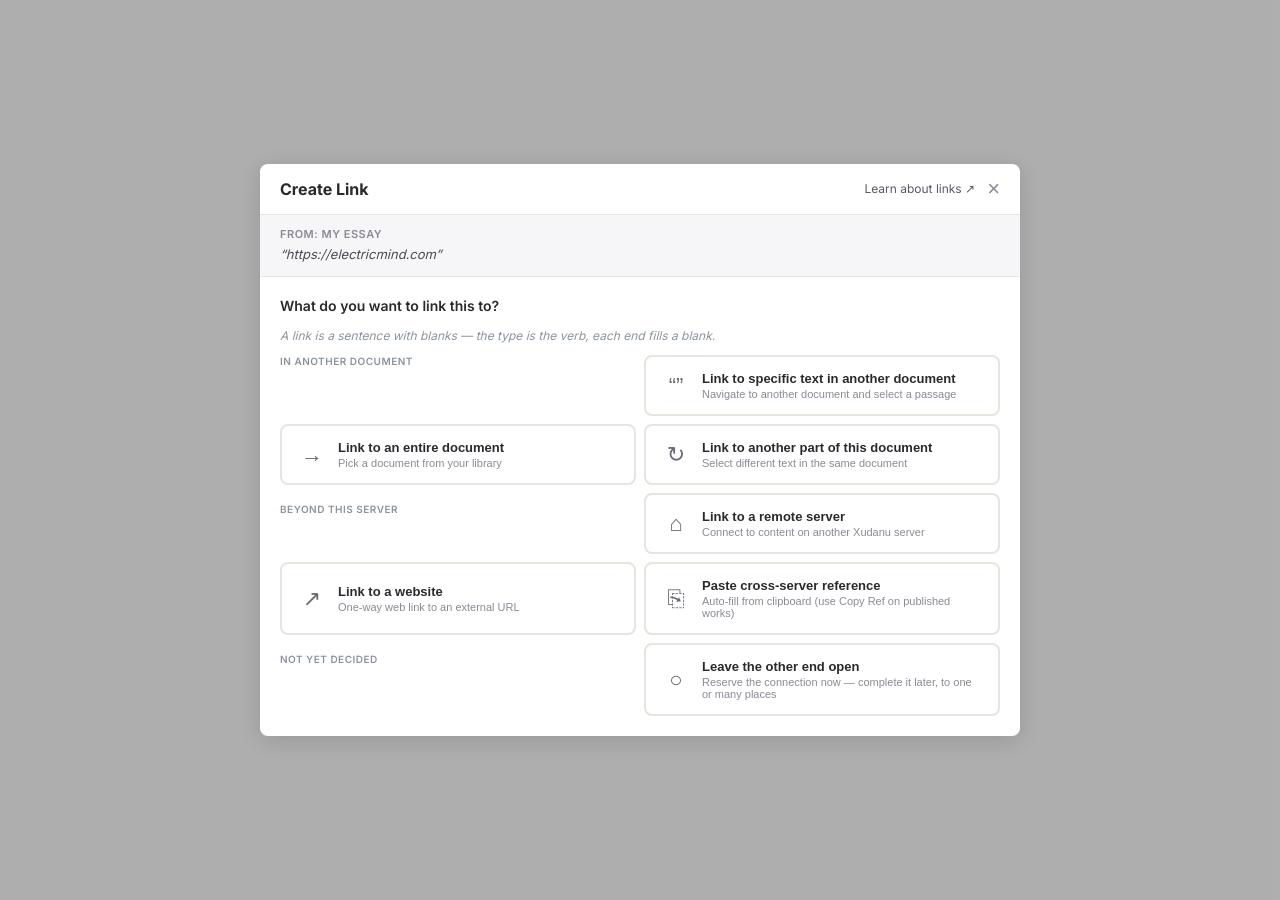
Test: LinkCreator › pre-fills the web URL when the selected text is a URL
Click the text "Link to a website" at x=390, y=592, box [338,584,443,599]
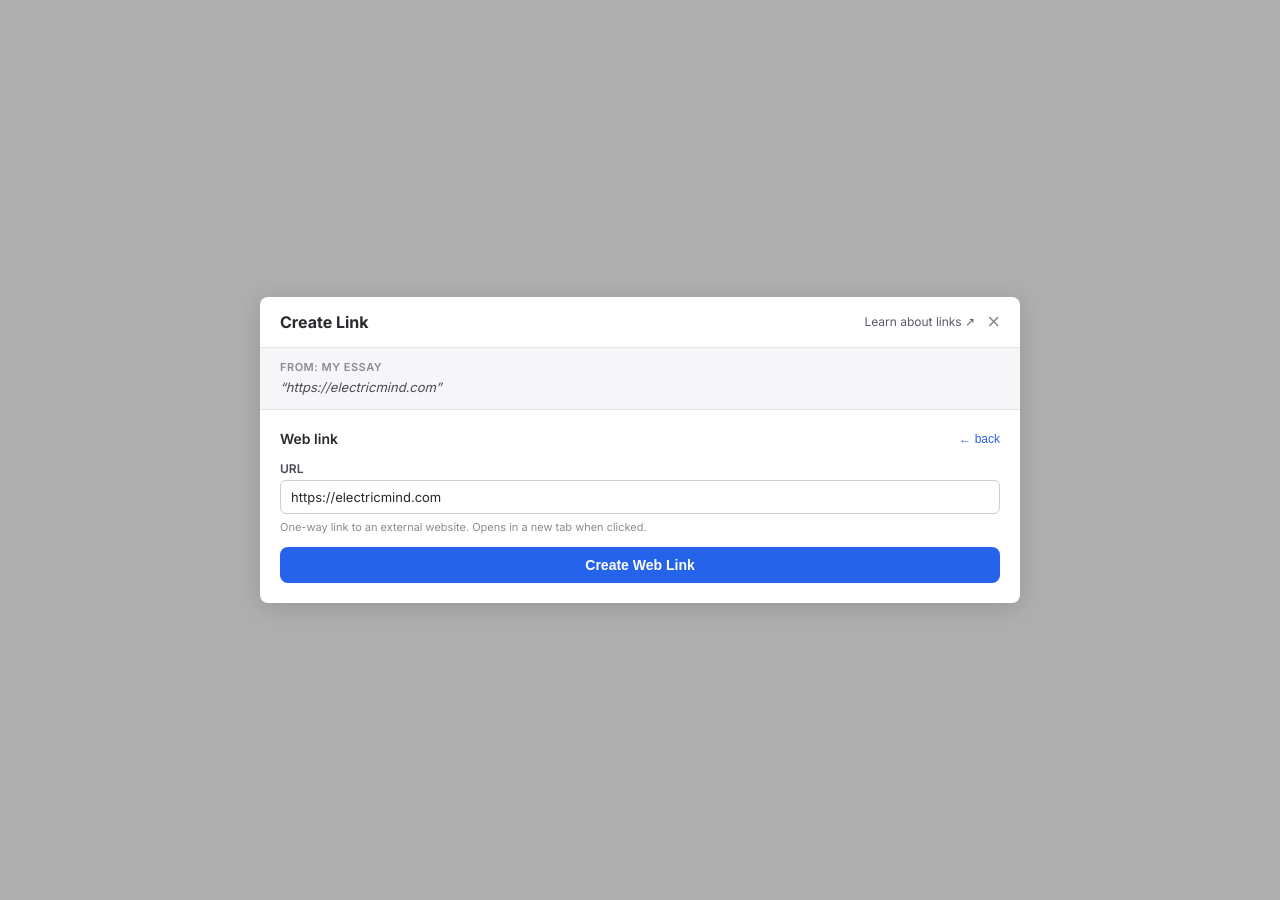
Now the field with placeholder "https://example.com/article" holds "https://electricmind.com", box [280,480,1000,514]
